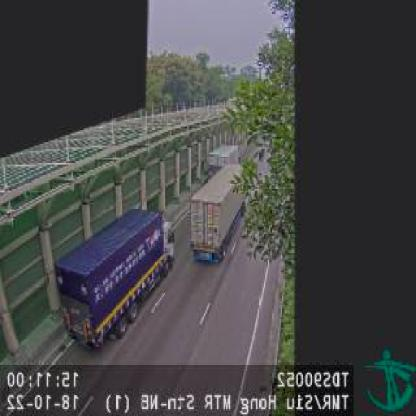Truck: (55, 205, 173, 349), (188, 164, 246, 265), (206, 145, 241, 179)
